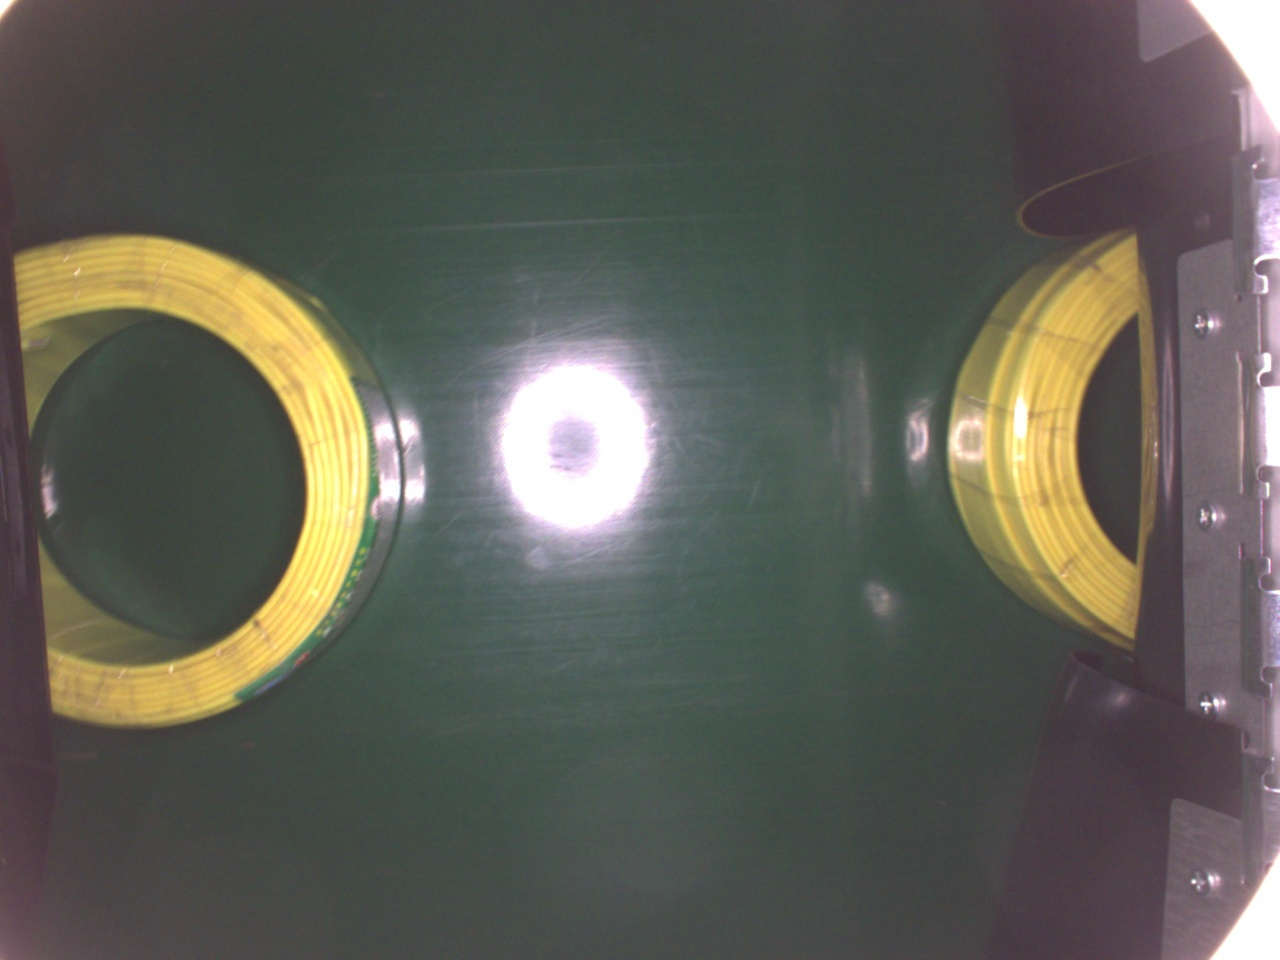yellow: (15, 226, 403, 731), (943, 222, 1143, 643)
